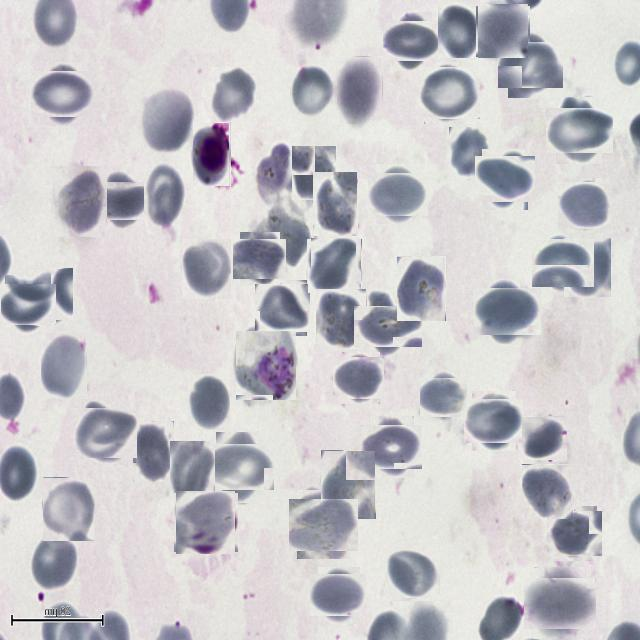leukocyte: (192, 122, 230, 186)
red blood cell: (174, 492, 237, 554), (529, 572, 591, 634), (321, 450, 376, 519), (293, 494, 354, 555), (55, 166, 107, 237), (141, 86, 195, 154), (75, 404, 134, 462), (210, 438, 268, 496), (43, 477, 95, 541), (478, 283, 536, 340), (550, 102, 608, 158), (422, 65, 478, 122), (397, 256, 446, 321), (503, 37, 559, 93), (534, 234, 590, 290), (337, 56, 383, 124), (316, 288, 367, 349), (41, 332, 87, 399), (36, 66, 90, 122), (170, 441, 215, 508), (30, 530, 78, 592), (307, 239, 362, 293), (360, 299, 415, 353), (182, 239, 231, 299), (313, 171, 358, 236), (478, 152, 532, 206), (386, 546, 439, 600), (522, 464, 574, 519), (144, 162, 186, 229), (564, 238, 611, 297), (366, 421, 418, 474), (477, 5, 529, 58), (26, 268, 73, 326), (264, 210, 311, 268), (468, 395, 520, 447), (372, 168, 424, 220), (257, 282, 309, 334), (560, 180, 611, 231), (211, 67, 257, 123), (133, 421, 174, 482), (314, 570, 364, 620), (549, 508, 599, 558), (98, 176, 148, 226), (1, 280, 51, 330), (292, 145, 337, 200), (438, 0, 480, 58), (290, 64, 334, 119), (388, 17, 437, 66), (188, 374, 230, 430), (236, 235, 284, 282), (336, 354, 382, 402), (449, 127, 489, 179), (522, 416, 566, 462), (422, 376, 466, 420), (256, 143, 289, 200)
trophozoite: (236, 330, 297, 400)
